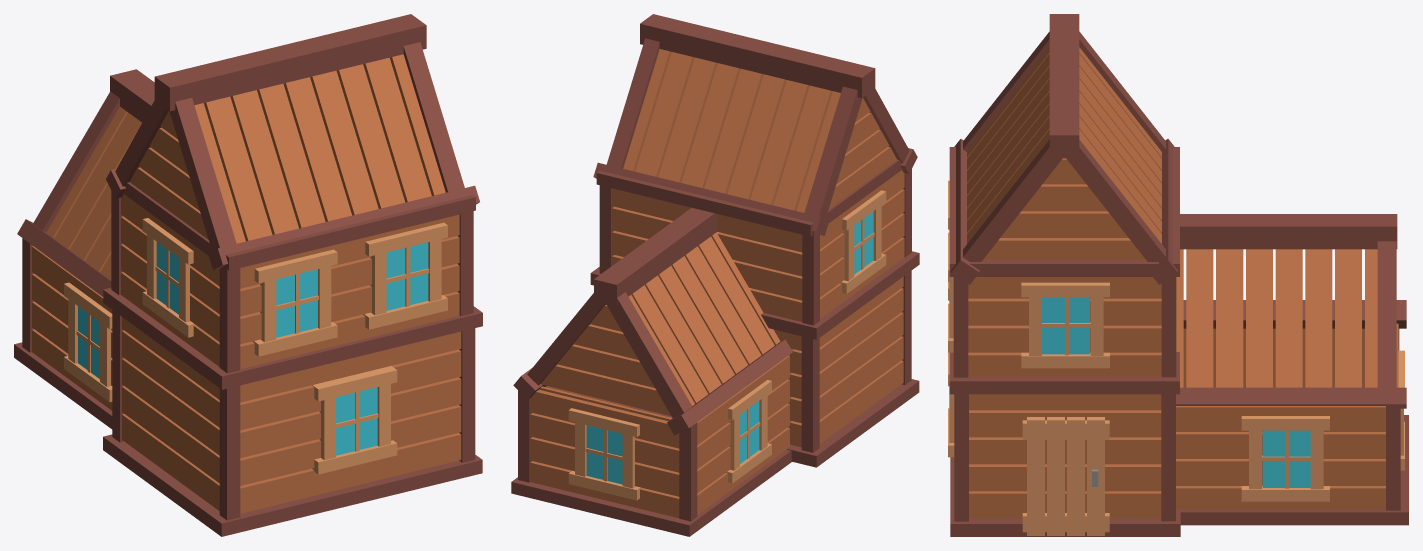
The model's file is casa.glb.
The picture shows the model from 3 angles, left to right: view 1: azimuth 30°, elevation 25°; view 2: azimuth 150°, elevation 25°; view 3: azimuth 270°, elevation 25°; orthographic projection. The views are drawn at different scales.
Visible parts, largest first — view 1: Cube.001; view 2: Cube.001; view 3: Cube.001.
Boxes of the visible parts, bbox=[...] form: Cube.001: bbox=[14, 14, 482, 536]; Cube.001: bbox=[511, 14, 919, 536]; Cube.001: bbox=[948, 14, 1408, 536].
Size of the model in its own units: 10.83 by 16.09 by 16.8.
